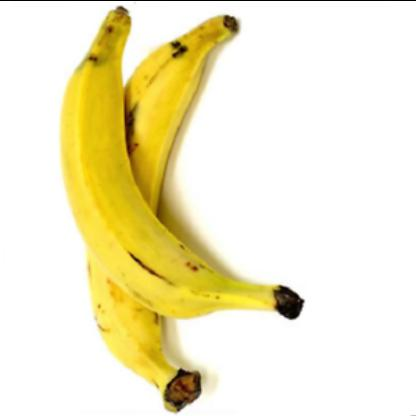banana: (60, 7, 304, 320), (86, 14, 238, 410)
